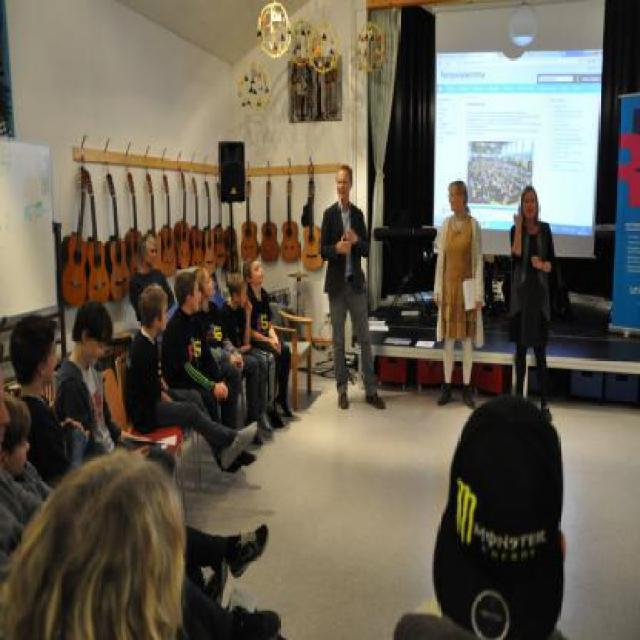Person: (0, 300, 285, 638), (125, 235, 301, 480), (325, 152, 377, 412), (432, 181, 486, 413), (506, 188, 560, 418)
